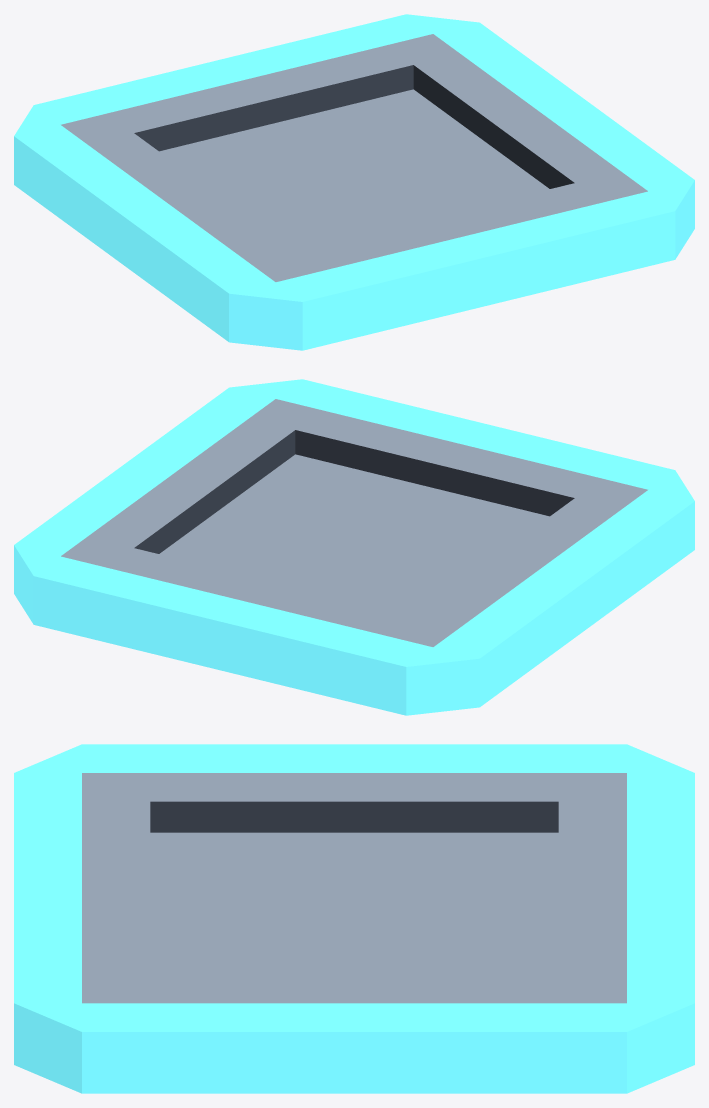
File: platform_small.glb
The picture shows the model from 3 angles, top to bottom: view 1: azimuth 30°, elevation 25°; view 2: azimuth 150°, elevation 25°; view 3: azimuth 270°, elevation 25°; orthographic projection. The views are drawn at different scales.
Parts seen in each view (by area): view 1: platform_small; view 2: platform_small; view 3: platform_small.
Boxes of the visible parts, box(x1,y1,x2,y2) form: platform_small: box(14, 14, 694, 350); platform_small: box(14, 379, 694, 715); platform_small: box(14, 744, 694, 1093).
Bounding box in the file's own units: 1 × 0.1 × 1.
